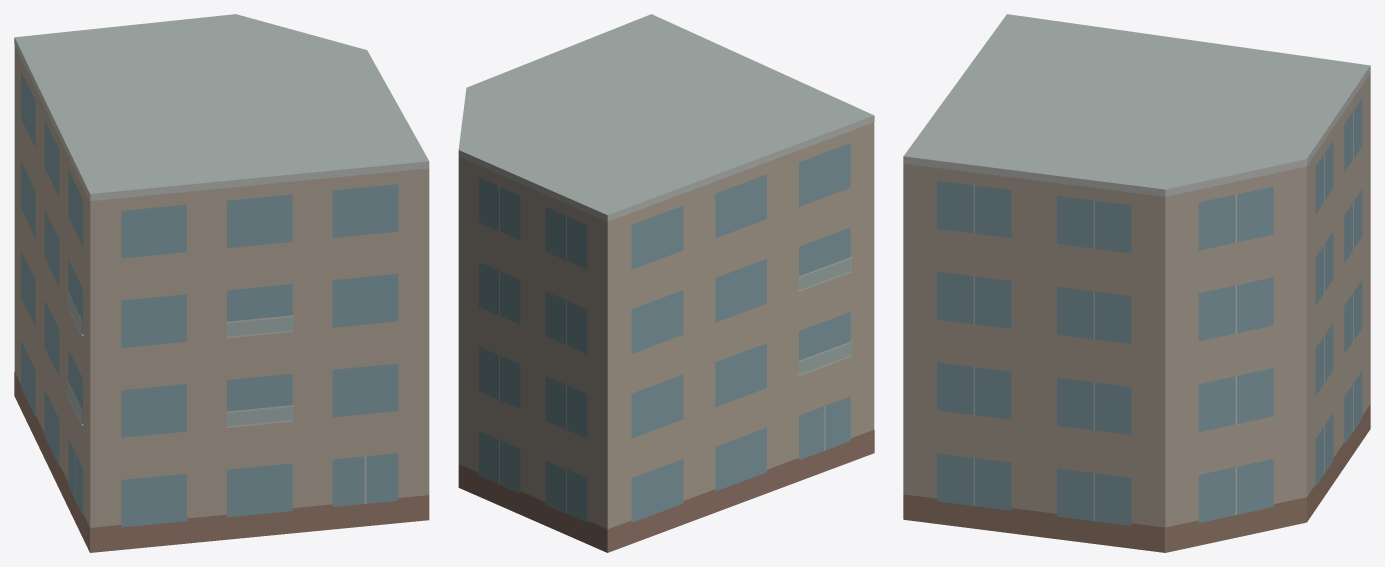
Rendered from survey-upis-32807007.glb.
The picture shows the model from 3 angles, left to right: view 1: azimuth 30°, elevation 25°; view 2: azimuth 150°, elevation 25°; view 3: azimuth 270°, elevation 25°; orthographic projection. The views are drawn at different scales.
Parts seen in each view (by area): view 1: survey-upis-32807007.tmp; view 2: survey-upis-32807007.tmp; view 3: survey-upis-32807007.tmp.
Boxes of the visible parts, left/top/right/bottom form: survey-upis-32807007.tmp: left=14, top=14, right=429, bottom=552; survey-upis-32807007.tmp: left=458, top=14, right=874, bottom=552; survey-upis-32807007.tmp: left=903, top=14, right=1370, bottom=552.
Size of the model in its own units: 12.65 by 12.2 by 14.23.
